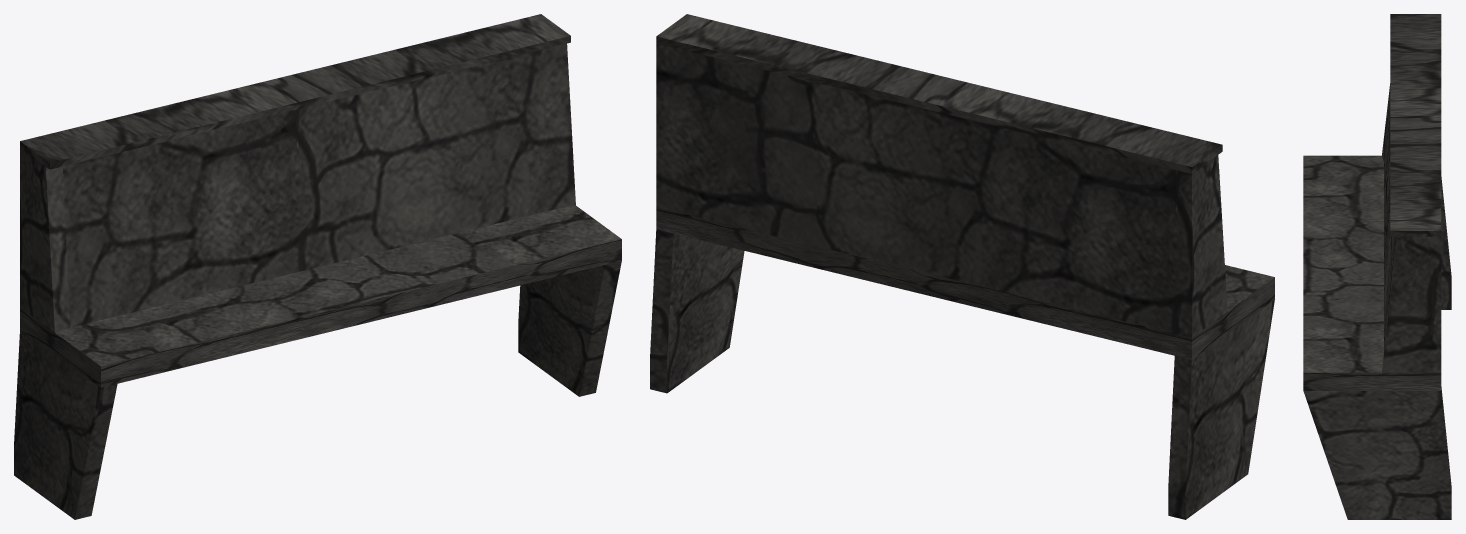
Rendered from stone_bench.fbx.
3 renders of one model, left to right at view 1: azimuth 30°, elevation 25°; view 2: azimuth 150°, elevation 25°; view 3: azimuth 270°, elevation 25°, orthographic. The views are drawn at different scales.
Visible parts, largest first — view 1: Cube.001; view 2: Cube.001; view 3: Cube.001.
Part boxes in pixels (x1,y1,x2,y2): Cube.001: (14, 14, 621, 519); Cube.001: (650, 14, 1274, 519); Cube.001: (1303, 14, 1451, 519).
Size of the model in its own units: 797 by 495 by 230.
